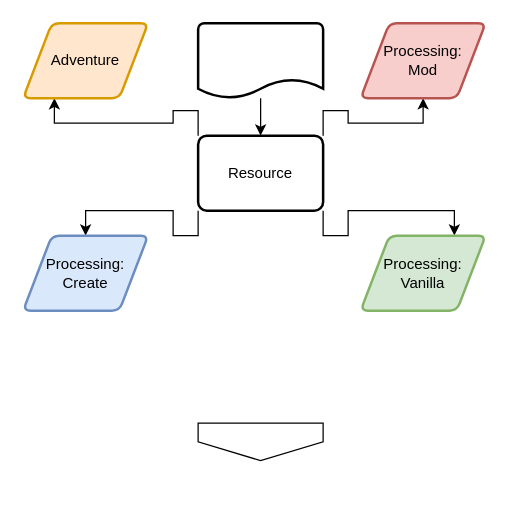
The diagram is 508 pixels wide and 508 high, and some of its shapes have lost their labels. The centre of each missing label's shape, as x and y in pixels:
Beginning of Age: (260,60)
Transfer to Next Age: (260,441)
